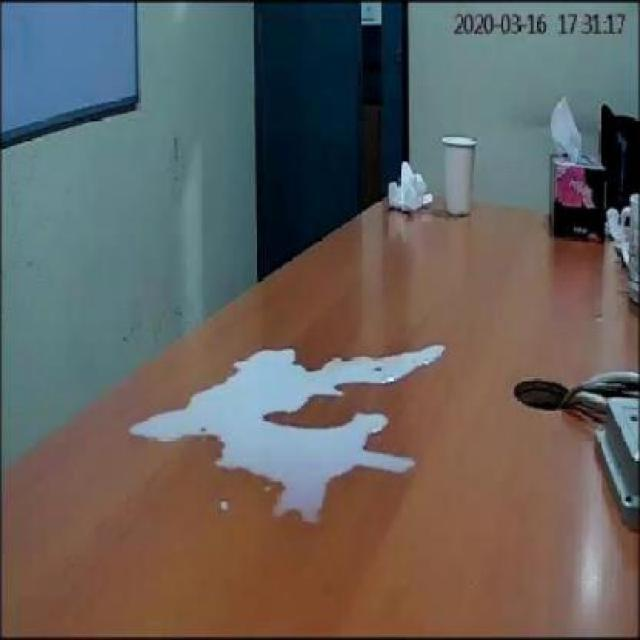spillage: (128, 345, 445, 521)
